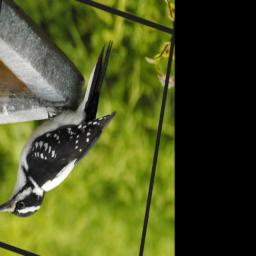Woodpecker: (0, 7, 127, 256)
